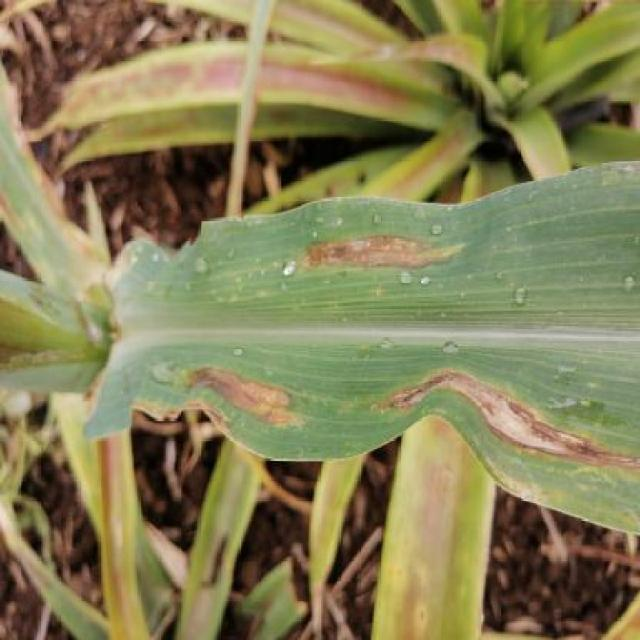Corn_Leaf_Blight: (83, 160, 640, 542)
